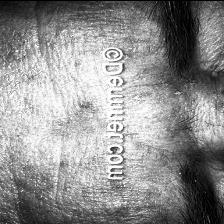Non-Cancerous Skin Condition: (0, 1, 97, 213)
